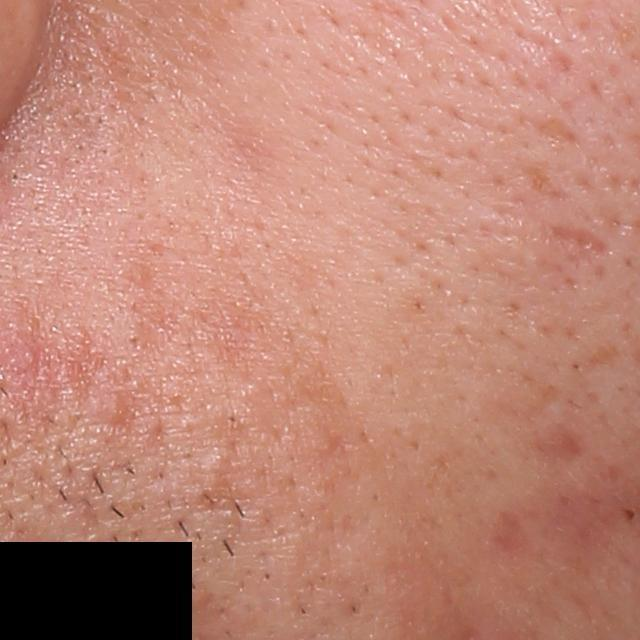atrophic_scar: (518, 416, 592, 458), (544, 222, 613, 266), (515, 111, 587, 148)
comedo: (6, 168, 26, 189), (621, 507, 640, 526)
